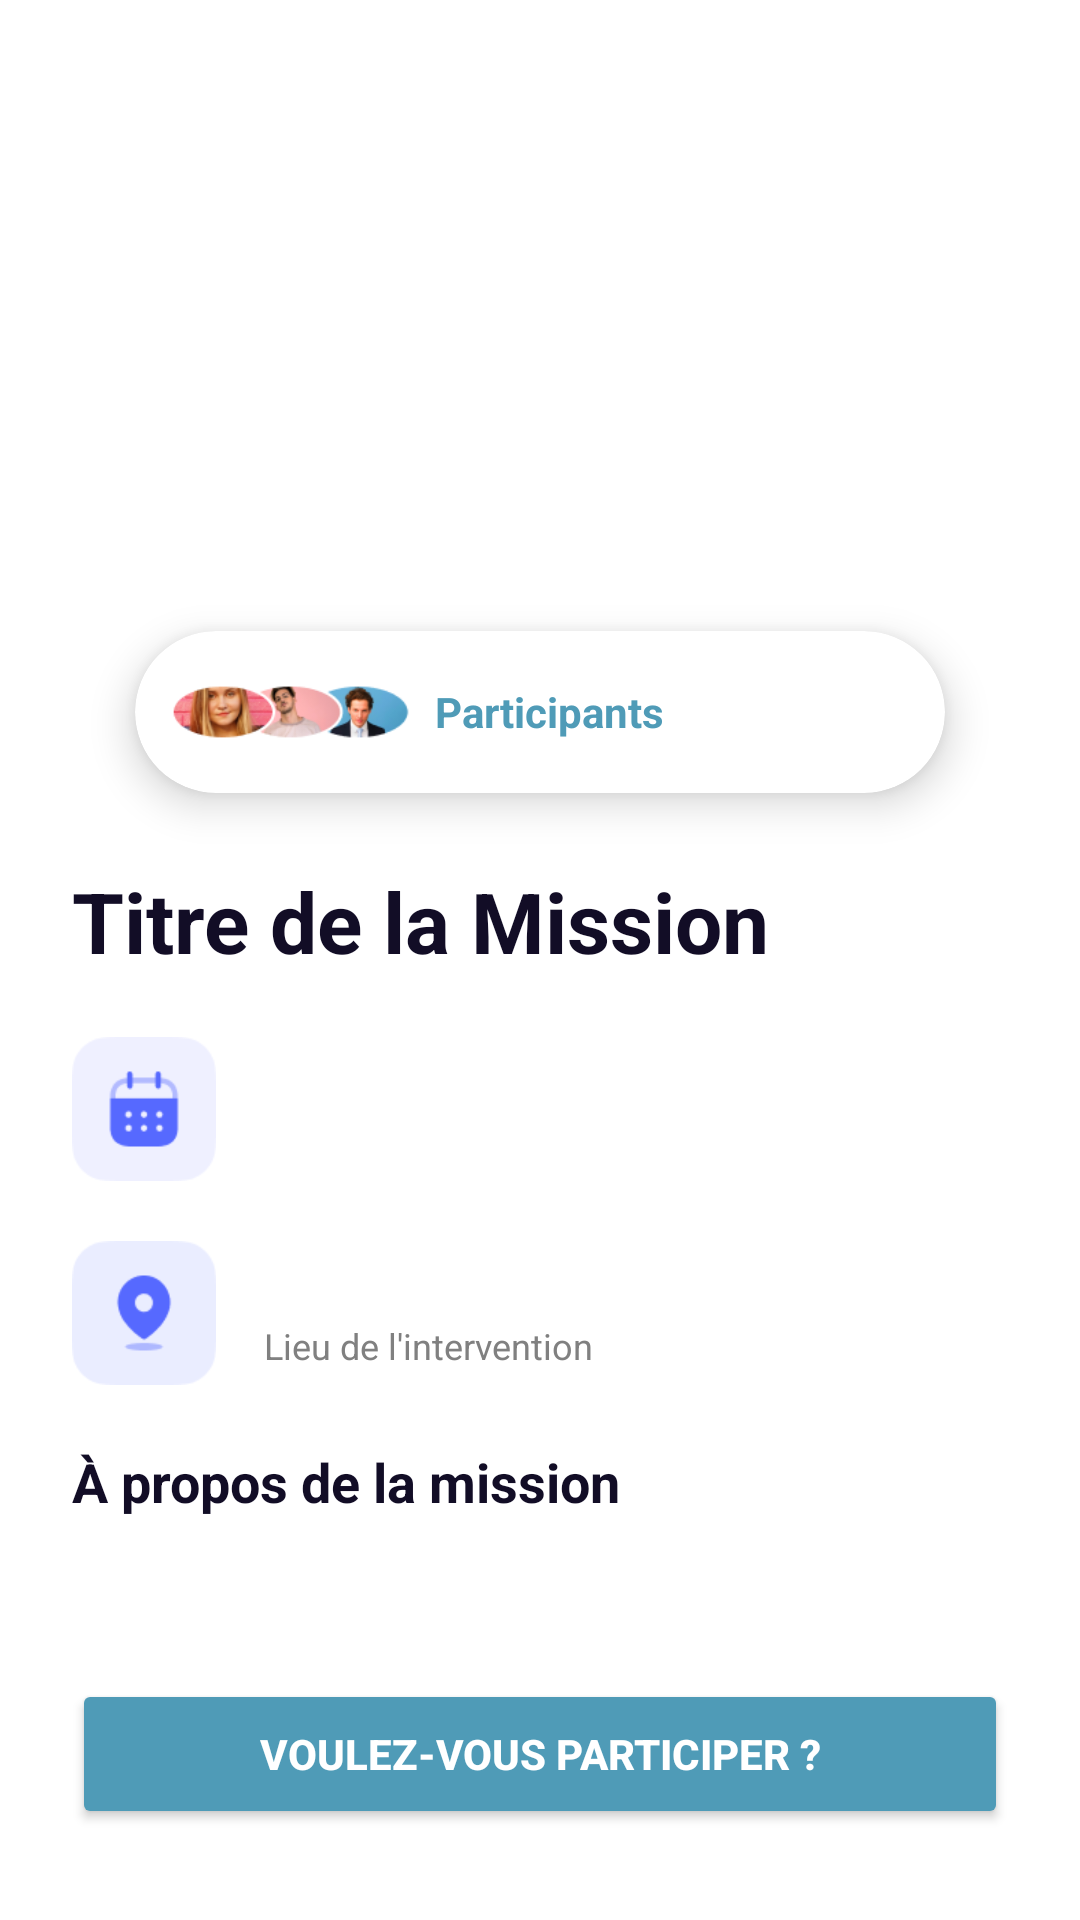

Where to tap for icons on this 1080w x 1920h app screen, as (x=x, y=y):
avatars group: (x=291, y=712)
